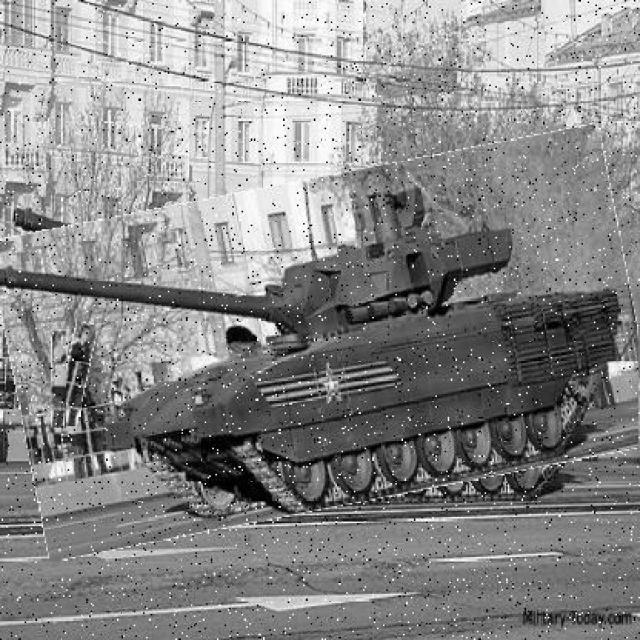Person: (63, 324, 94, 430), (100, 337, 127, 431), (54, 330, 71, 430)
Tank: (1, 151, 639, 536)
